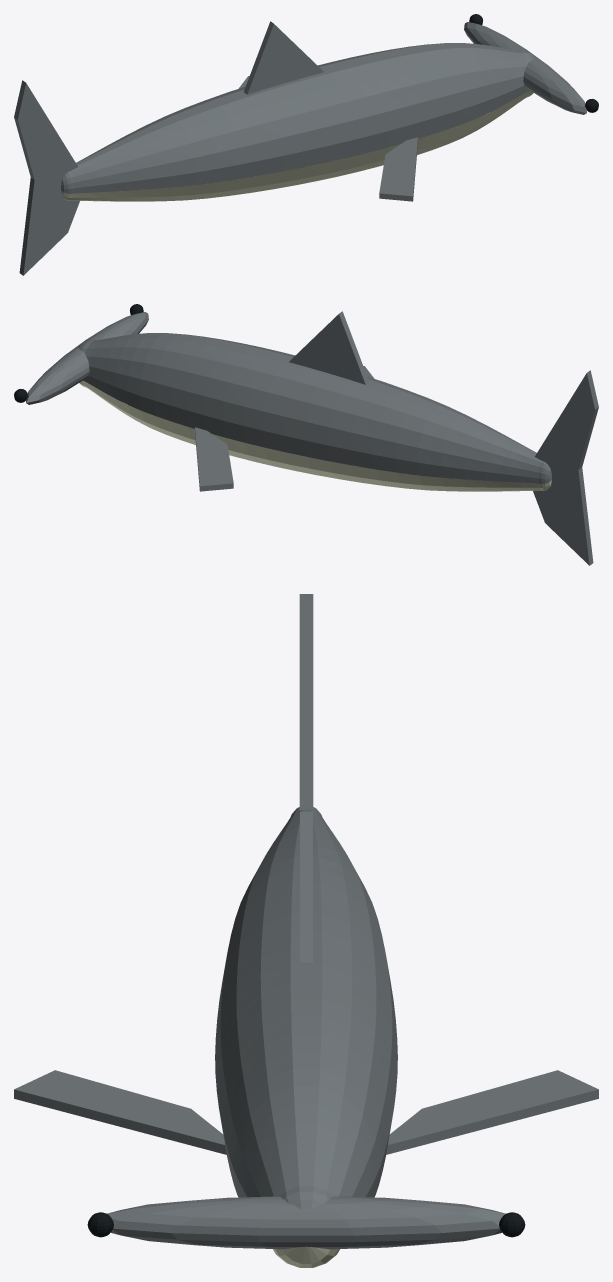
The model's file is scalloped-hammerhead.dae.
3 renders of one model, top to bottom at view 1: azimuth 30°, elevation 25°; view 2: azimuth 150°, elevation 25°; view 3: azimuth 270°, elevation 25°, orthographic. The views are drawn at different scales.
Visible parts, largest first — view 1: part2-node, part1-node; view 2: part2-node, part1-node; view 3: part2-node, part0-node, part1-node.
Part boxes in pixels (left/top/right/bottom): part2-node: left=14, top=21, right=586, bottom=275; part1-node: left=61, top=90, right=533, bottom=201; part2-node: left=26, top=311, right=598, bottom=565; part1-node: left=79, top=380, right=551, bottom=491; part2-node: left=14, top=594, right=598, bottom=1249; part0-node: left=87, top=1212, right=525, bottom=1237; part1-node: left=273, top=1246, right=339, bottom=1267.
Bounding box in the file's own units: 3.2 × 1.74 × 1.12.
